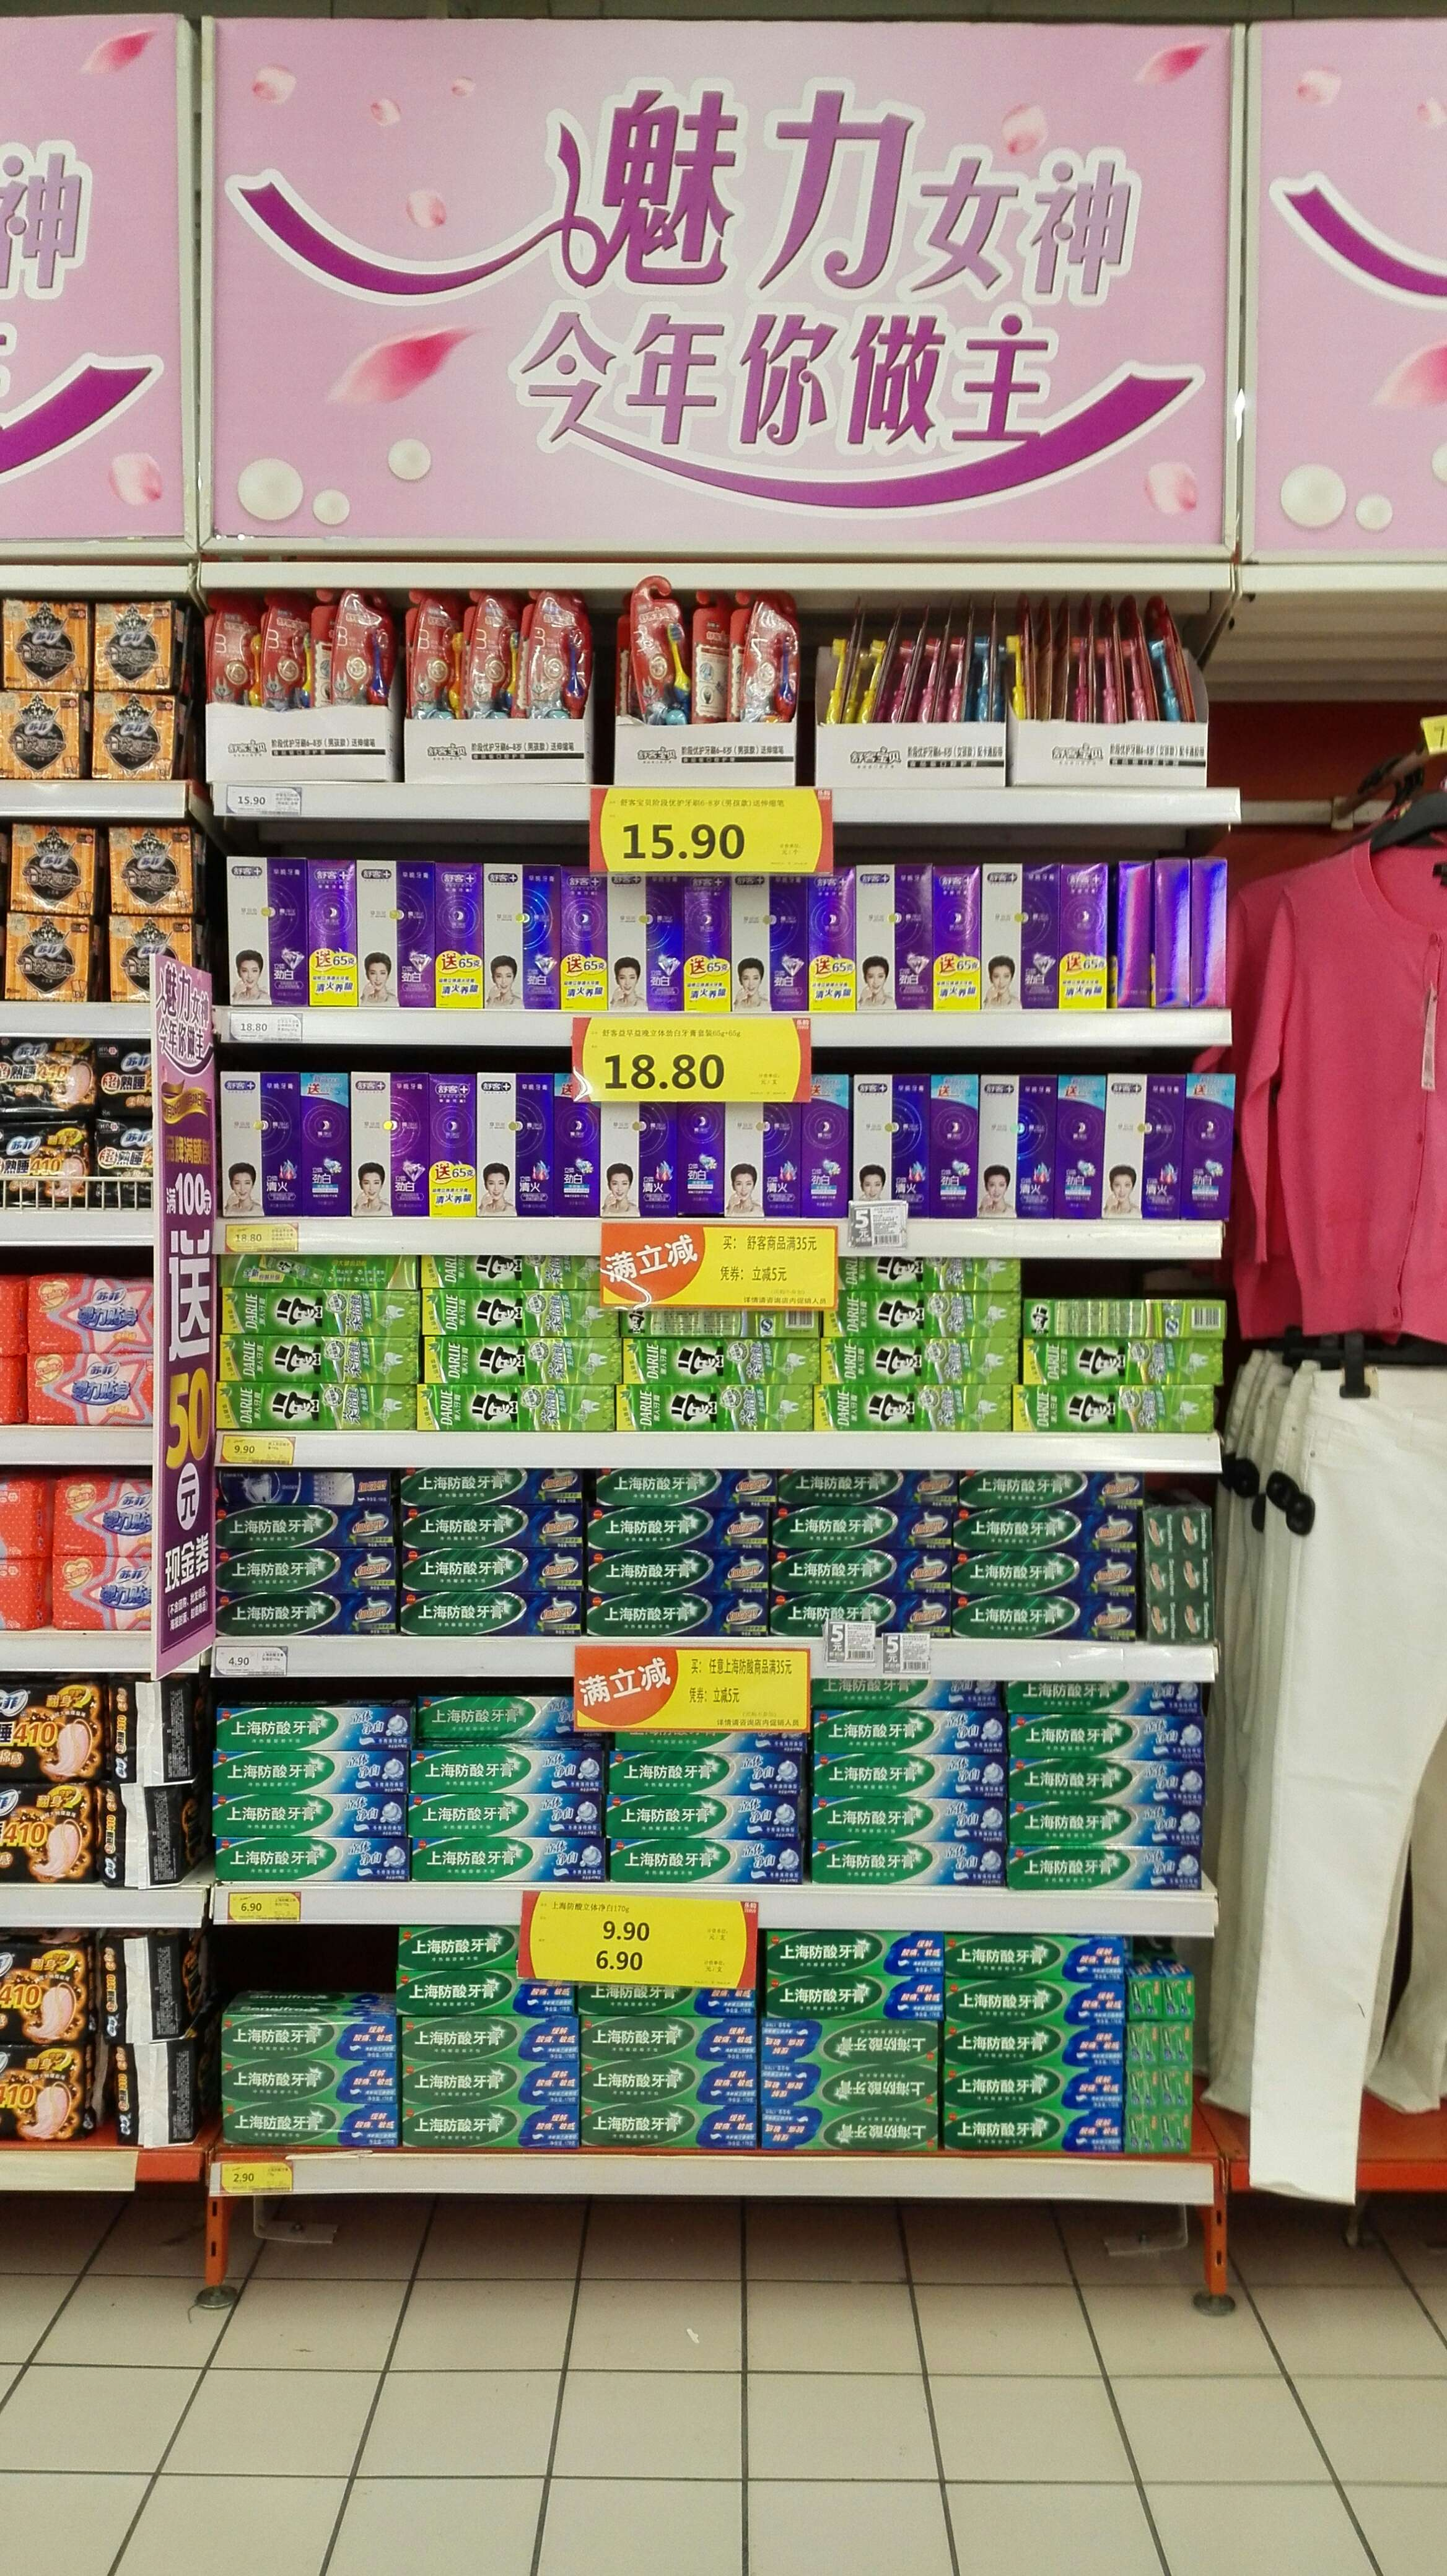Out-of-stock: (226, 1923, 393, 2006)
